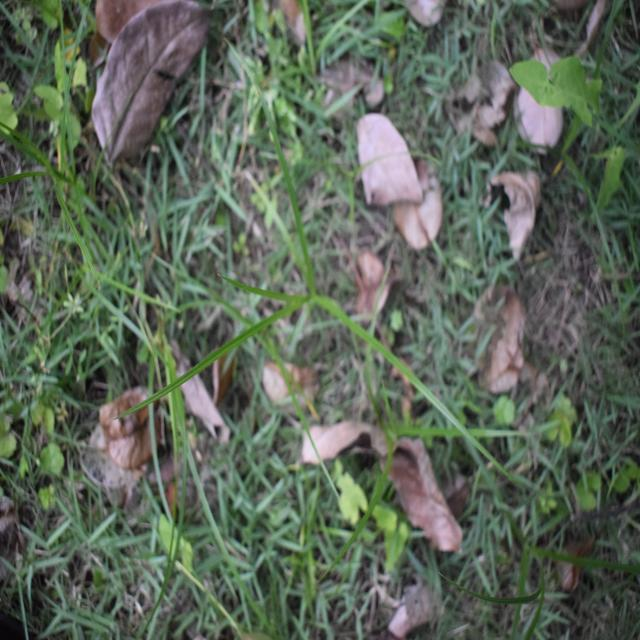sedge: (128, 136, 490, 478)
